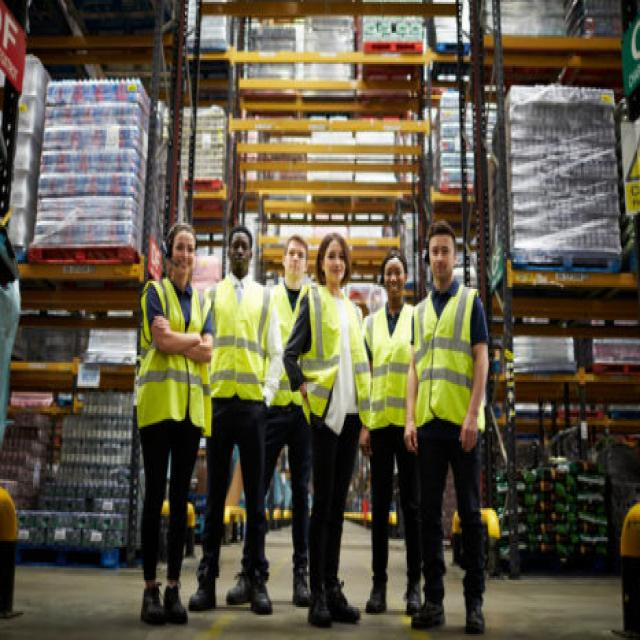boots: (186, 561, 274, 618), (227, 556, 316, 609), (410, 581, 490, 637), (306, 572, 364, 630), (366, 568, 426, 618), (138, 580, 190, 630)
vest: (410, 283, 488, 437), (298, 280, 374, 433), (135, 276, 208, 435), (207, 272, 271, 406), (364, 300, 423, 433), (268, 280, 321, 409)
